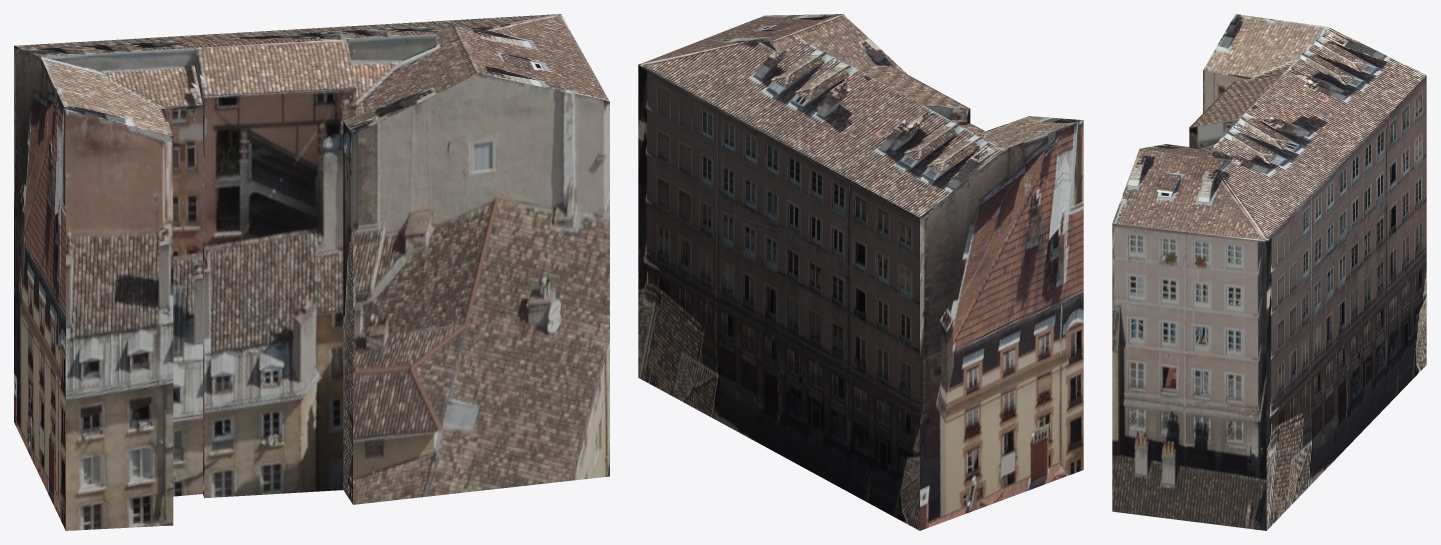
3 renders of one model, left to right at view 1: azimuth 30°, elevation 25°; view 2: azimuth 150°, elevation 25°; view 3: azimuth 270°, elevation 25°, orthographic. The views are drawn at different scales.
Visible parts, largest first — view 1: Z_UP; view 2: Z_UP; view 3: Z_UP.
Boxes of the visible parts, bbox=[...] form: Z_UP: bbox=[14, 14, 609, 530]; Z_UP: bbox=[638, 14, 1083, 530]; Z_UP: bbox=[1112, 14, 1426, 530].
Size of the model in its own units: 34.63 by 27.03 by 23.8.
Materials: 2 (1 with a texture image).
